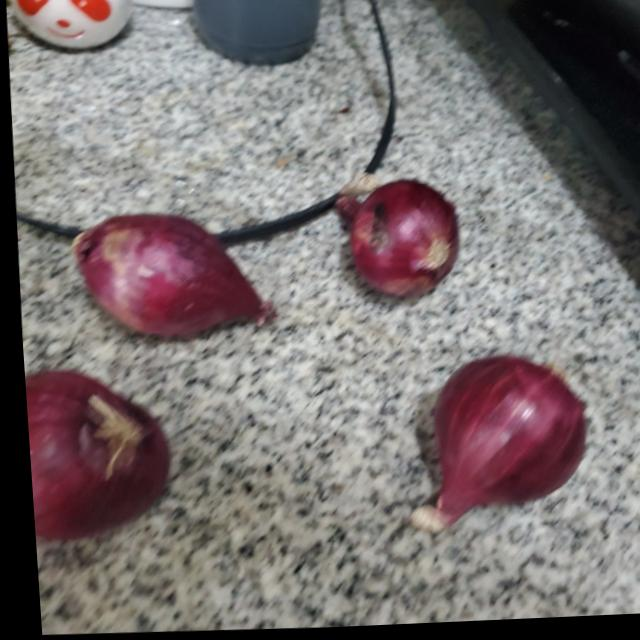onion: (404, 354, 585, 534), (69, 206, 274, 340), (19, 363, 171, 539), (332, 175, 453, 300)
